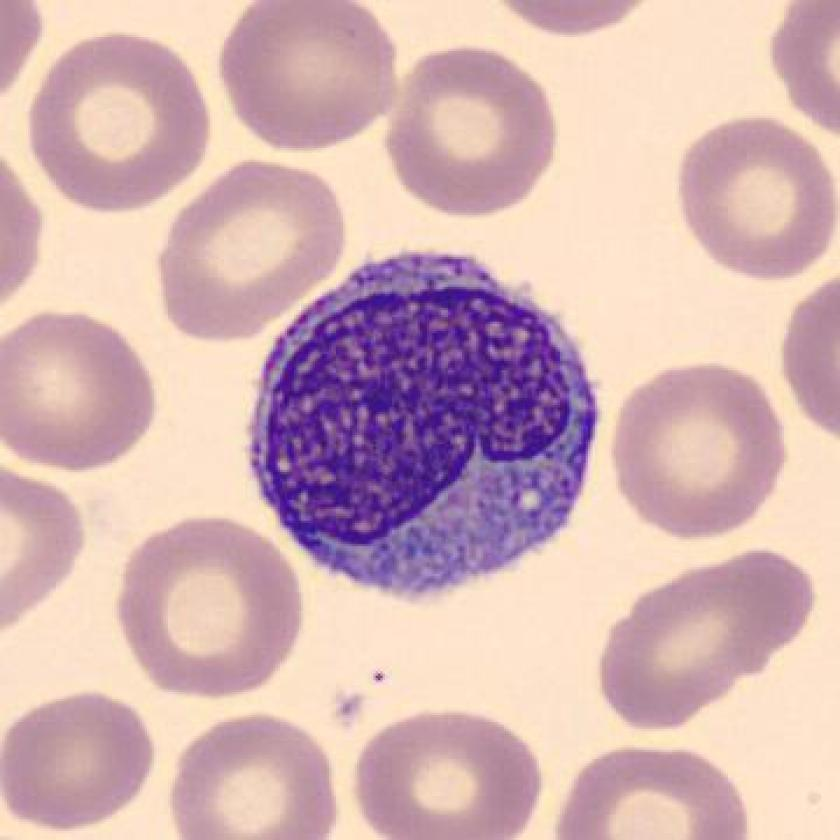monocyte: (230, 216, 626, 621)
